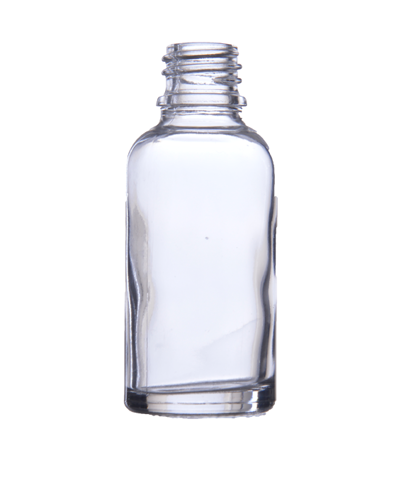glass_bottle: (114, 31, 288, 430)
